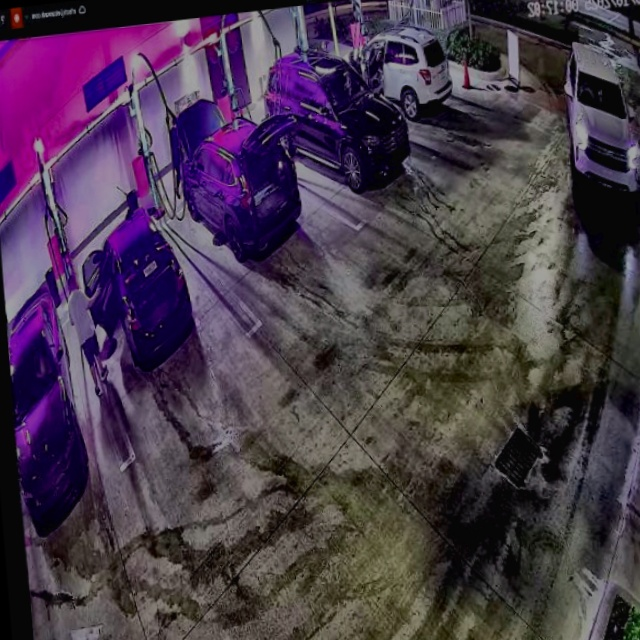Car: (263, 37, 410, 202), (173, 85, 313, 255), (80, 195, 196, 380)
